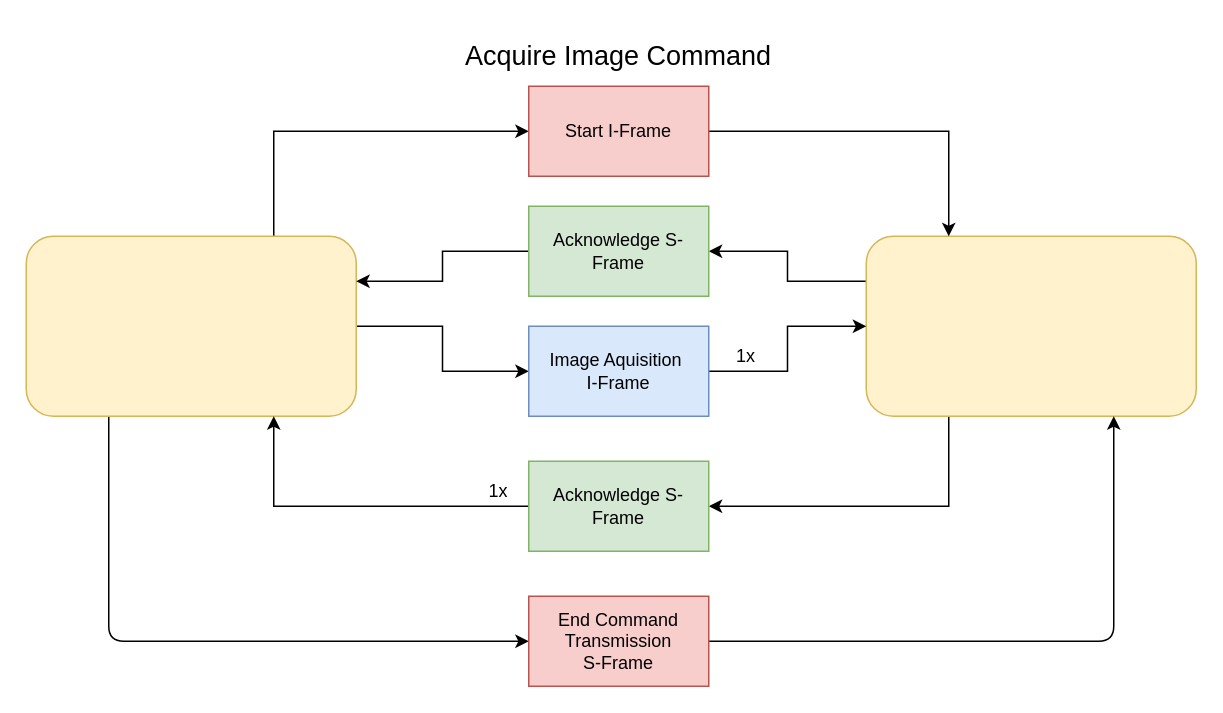
This 1223x713 diagram has some shape labels left out. Here are the shapes that lost their labels. From the top down, the centre of each, then its label:
point 190,325: Primary Station Western / Other Ground Station
point 1030,325: Secondary Station Ukpik-1
